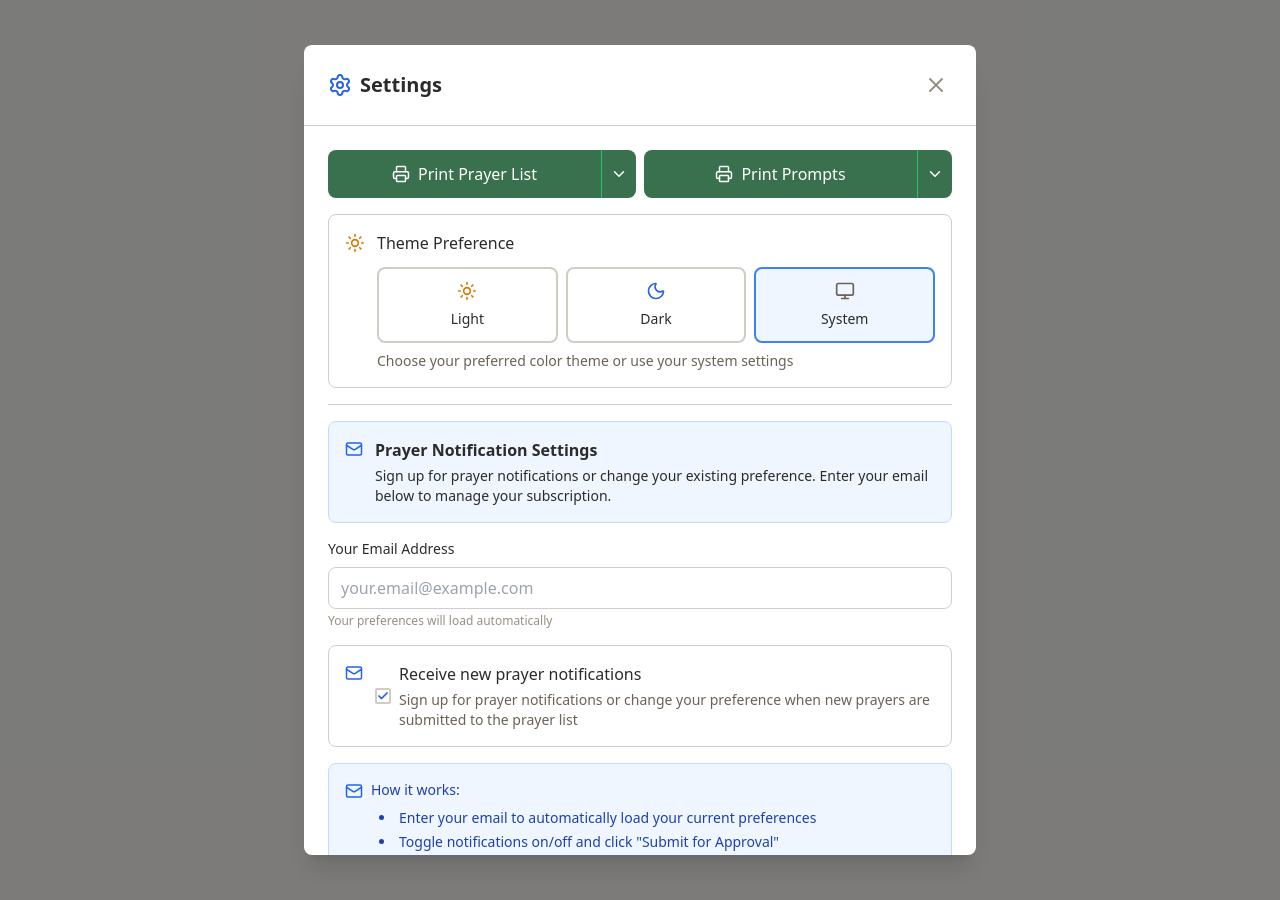
UserSettings › Rendering › shows name input only after email is entered
Expected: the field with placeholder "John Doe" is not shown
// Enter email
Step 1. Type "test@example.com" into the field with placeholder "your.email@example.com" → point(640, 588), box [328, 567, 952, 609]
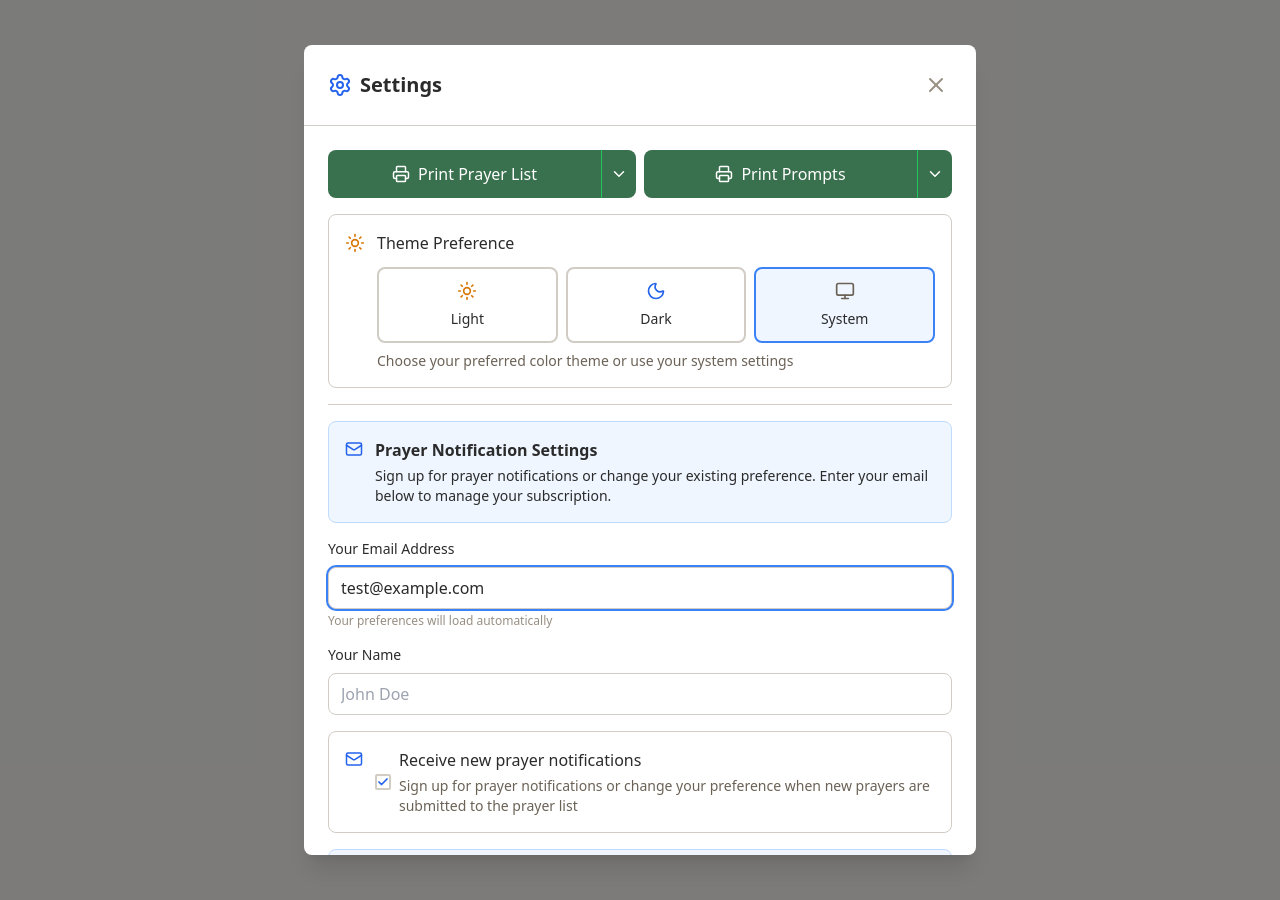
Expected: the field with placeholder "John Doe" is shown, [328, 673, 952, 715]
